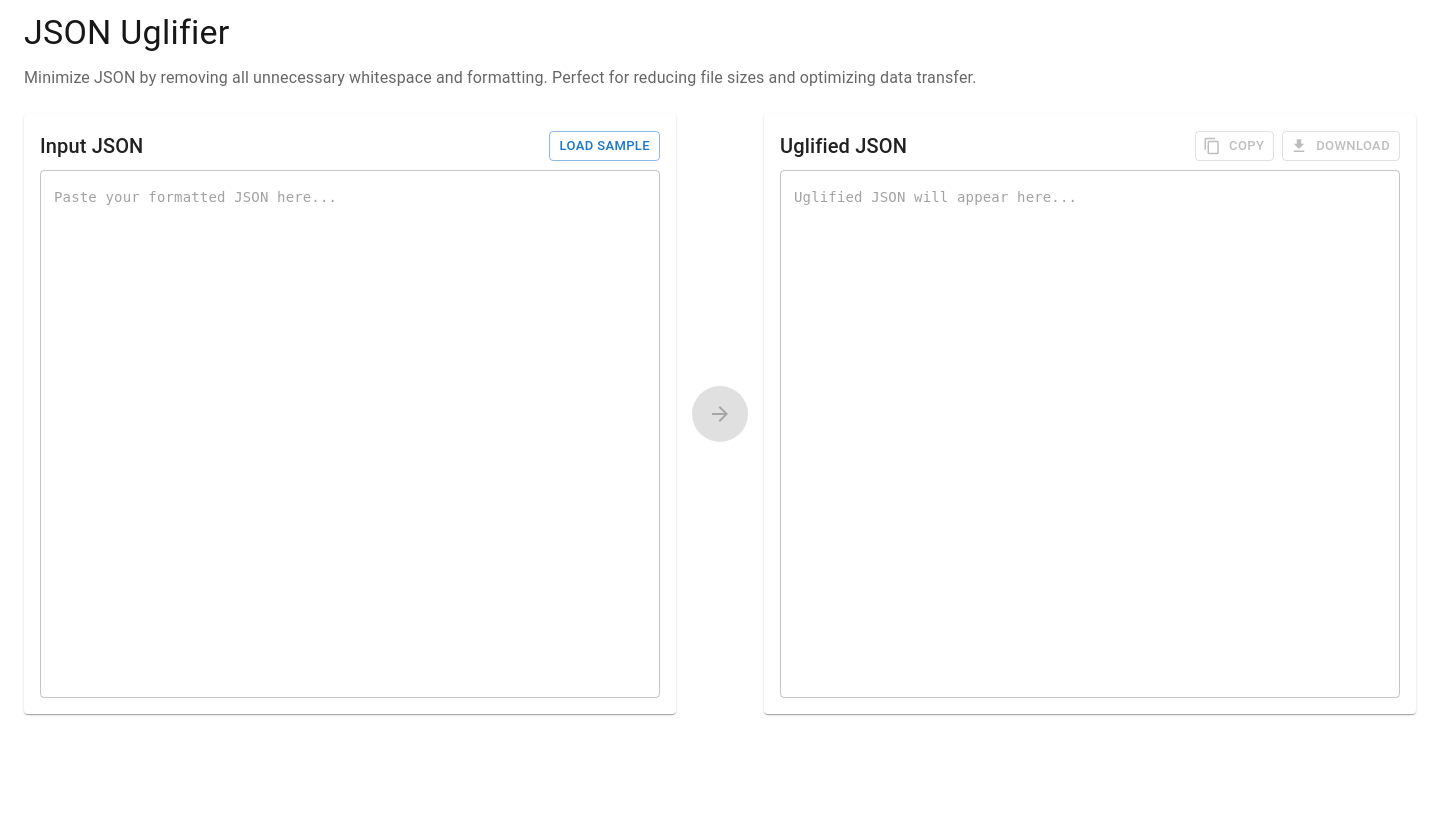
JsonUglifierTool › should uglify JSON correctly
Clear the text box with placeholder "Paste your formatted JSON here..." at (350, 434), box [54,186,646,681]
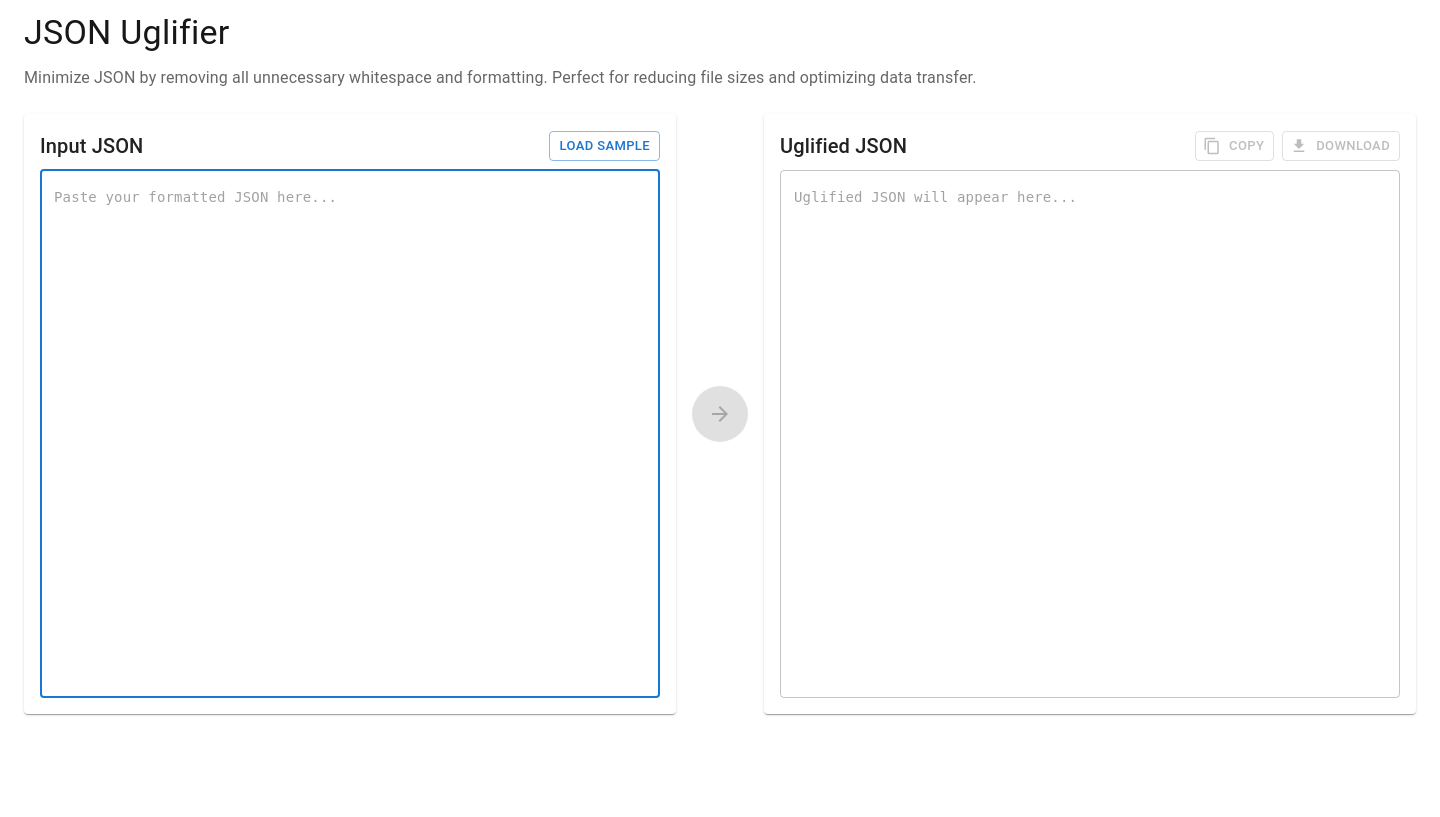
Type keys "{   \"name\": \"test\",   \"values\": [1, 2, 3],   \"nested\": {     \"key\": \"value\"   } }"
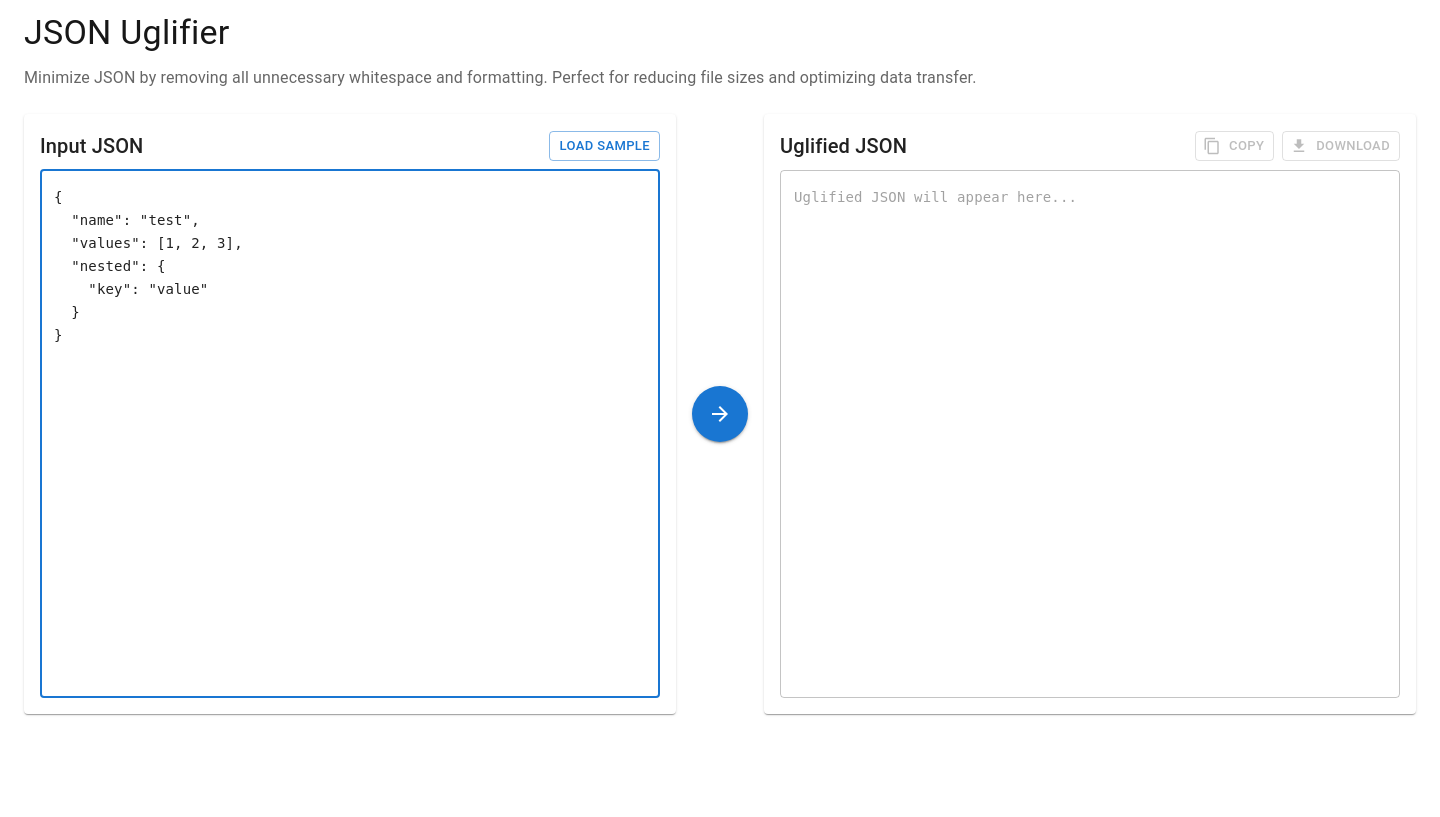
Click the button named "Uglify JSON" at (720, 414), box [692,386,748,442]
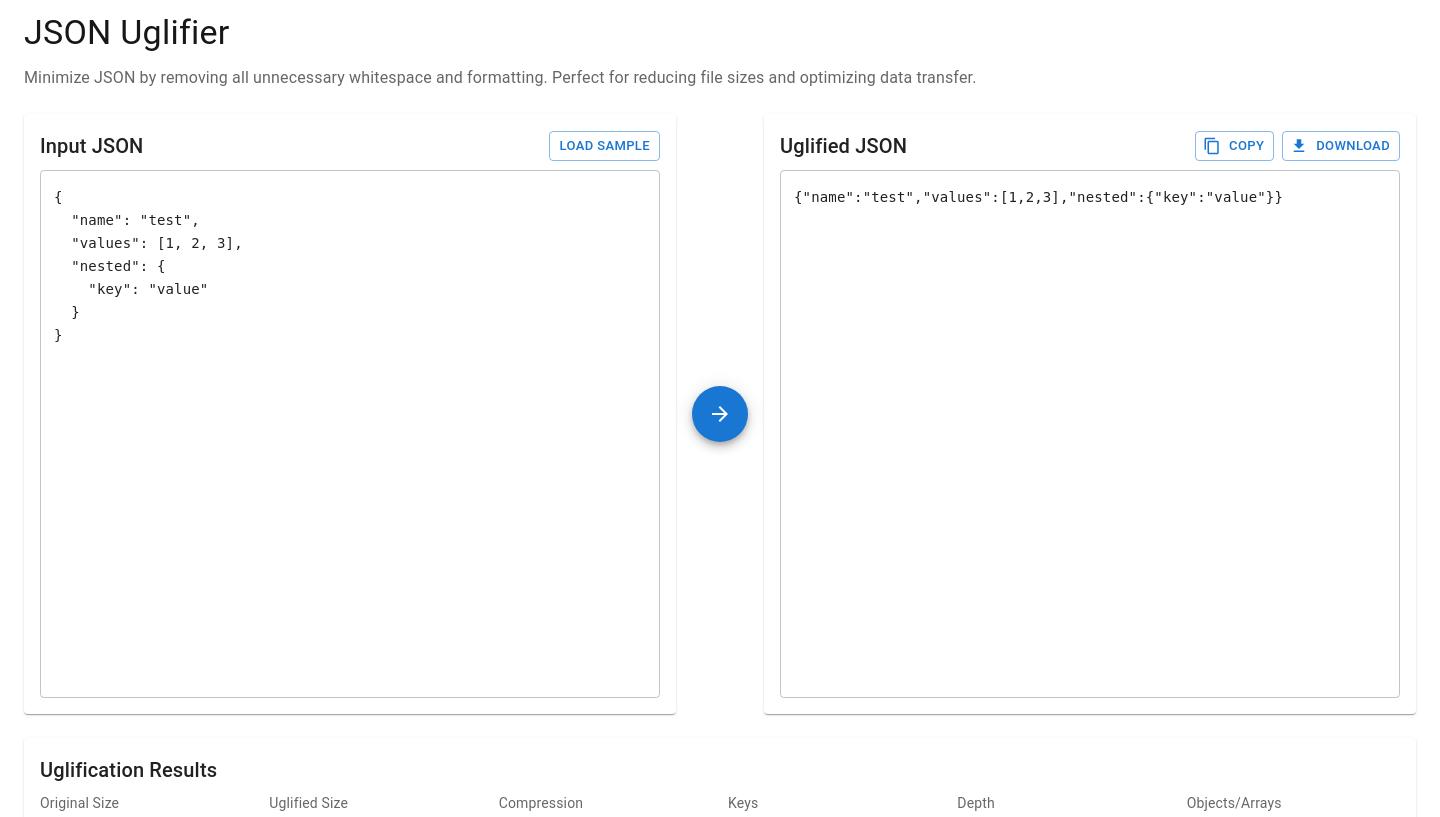
Check: the text box with placeholder "Uglified JSON will appear here..." below "Uglified JSON" holds "{\"name\":\"test\",\"values\":[1,2,3],\"nested\":{\"key\":\"value\"}}", box [794,186,1386,681]
